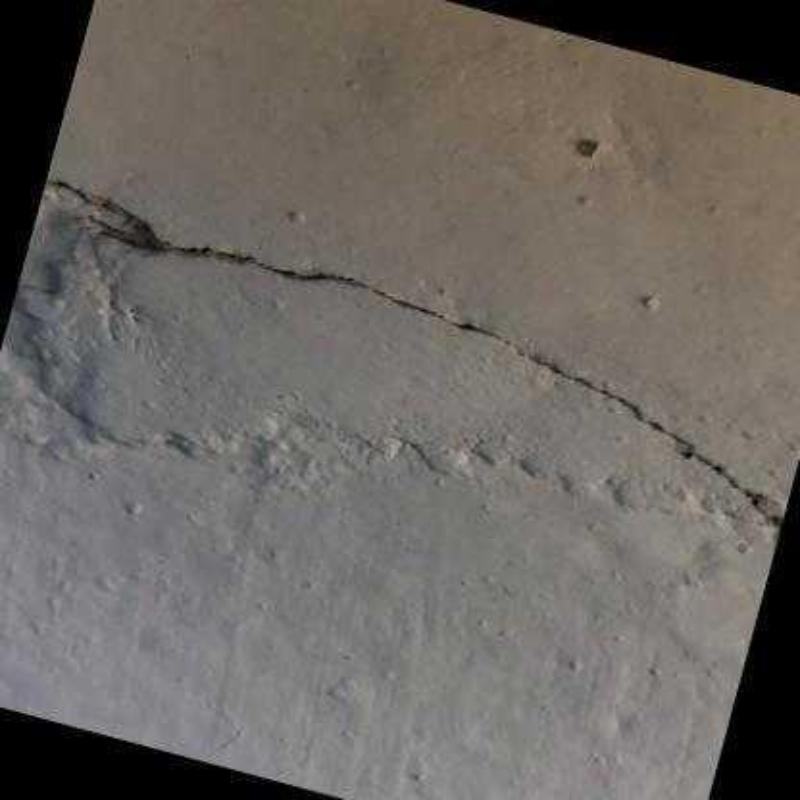pothole: (43, 178, 782, 528)
